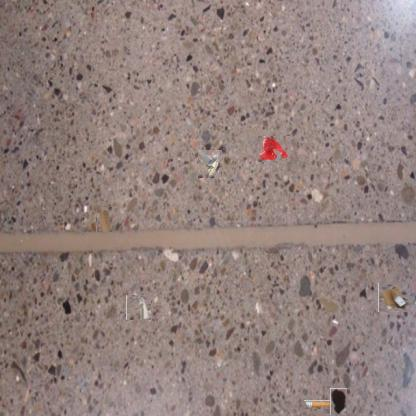dirty: (379, 282, 409, 313), (198, 150, 222, 178), (126, 295, 152, 320), (96, 206, 112, 232), (303, 400, 331, 409)
liquid: (258, 136, 290, 162), (330, 388, 347, 415)
